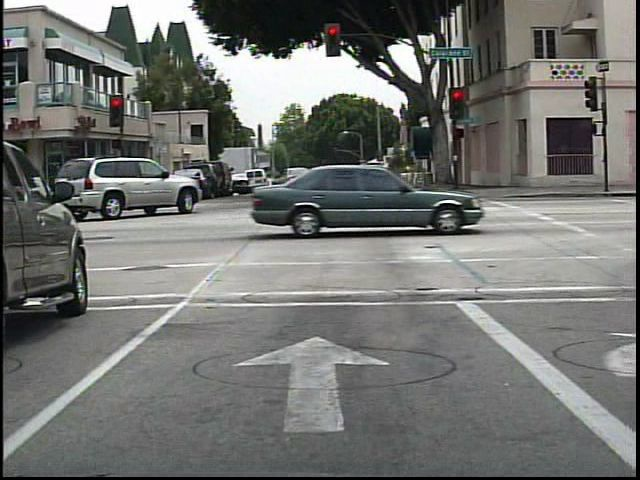person: (310, 159, 339, 204)
